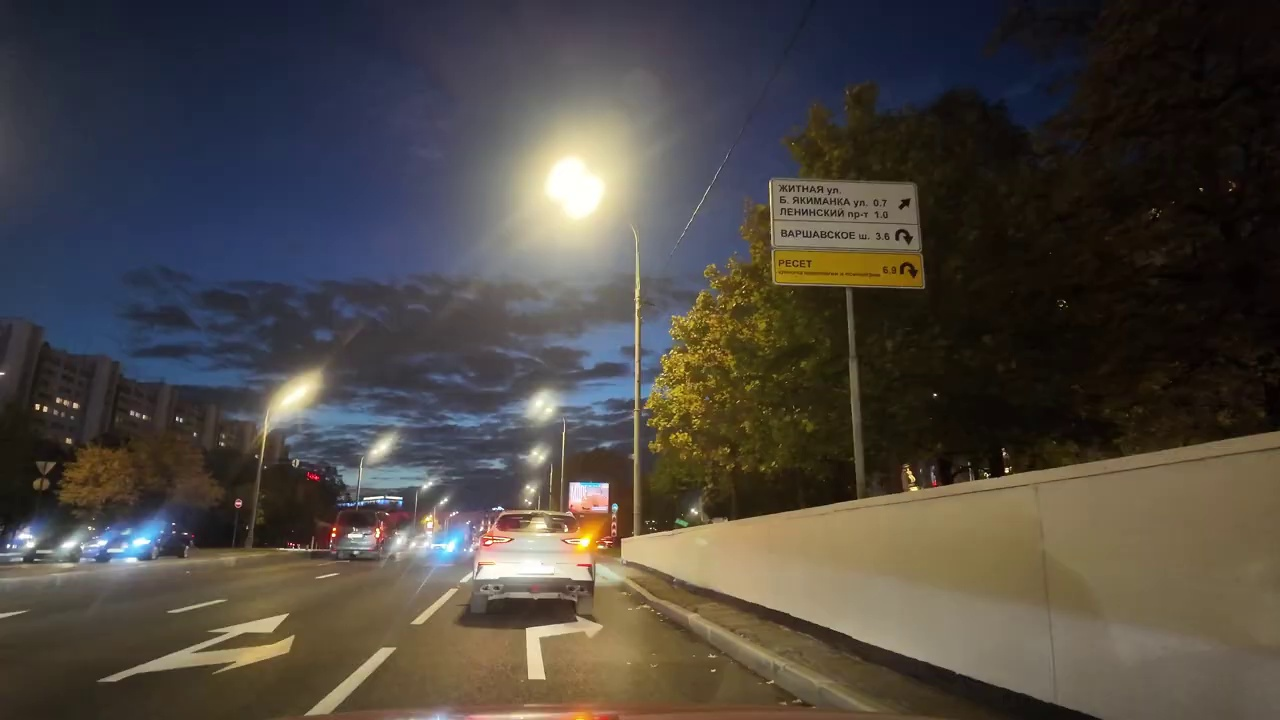acesa: (525, 141, 640, 239), (540, 148, 615, 225), (266, 367, 325, 424)
